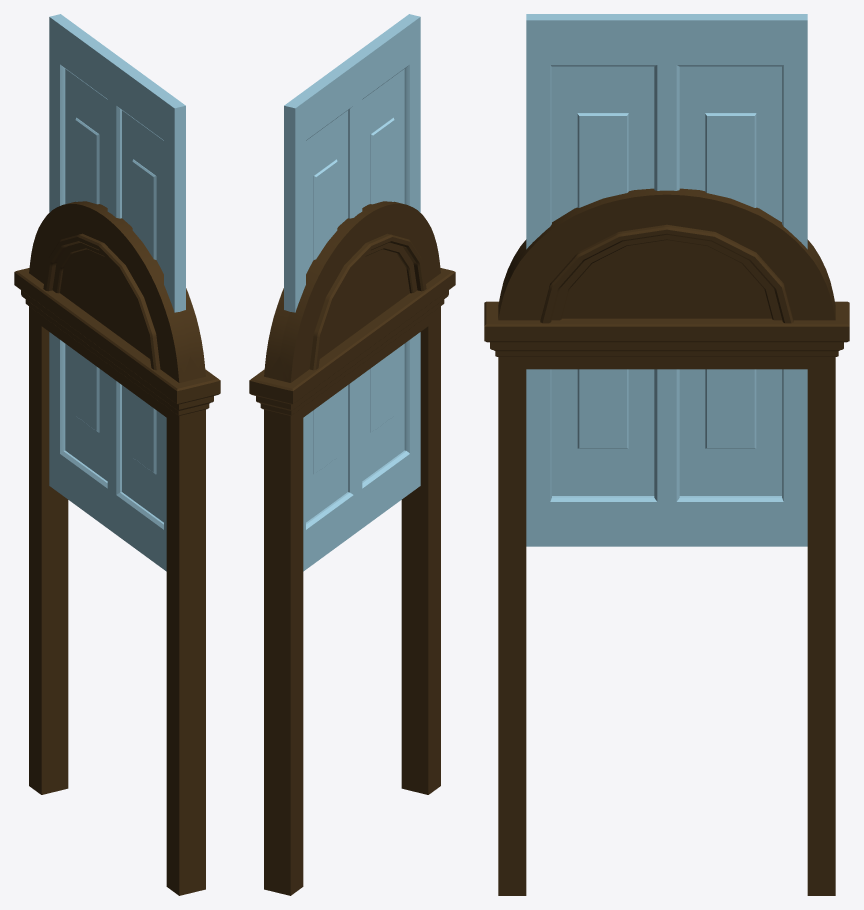
The model's file is DOOR IWONDER.fbx.
3 renders of one model, left to right at view 1: azimuth 30°, elevation 25°; view 2: azimuth 150°, elevation 25°; view 3: azimuth 270°, elevation 25°, orthographic. The views are drawn at different scales.
Parts seen in each view (by area): view 1: FRAME, DOOR; view 2: FRAME, DOOR; view 3: DOOR, FRAME.
Boxes of the visible parts, <box> form: FRAME: <box>14,201,220,895</box>; DOOR: <box>49,14,185,571</box>; FRAME: <box>249,201,455,895</box>; DOOR: <box>284,14,420,571</box>; DOOR: <box>526,14,807,546</box>; FRAME: <box>484,188,849,895</box>.
Size of the model in its own units: 40.34 by 684 by 260.
